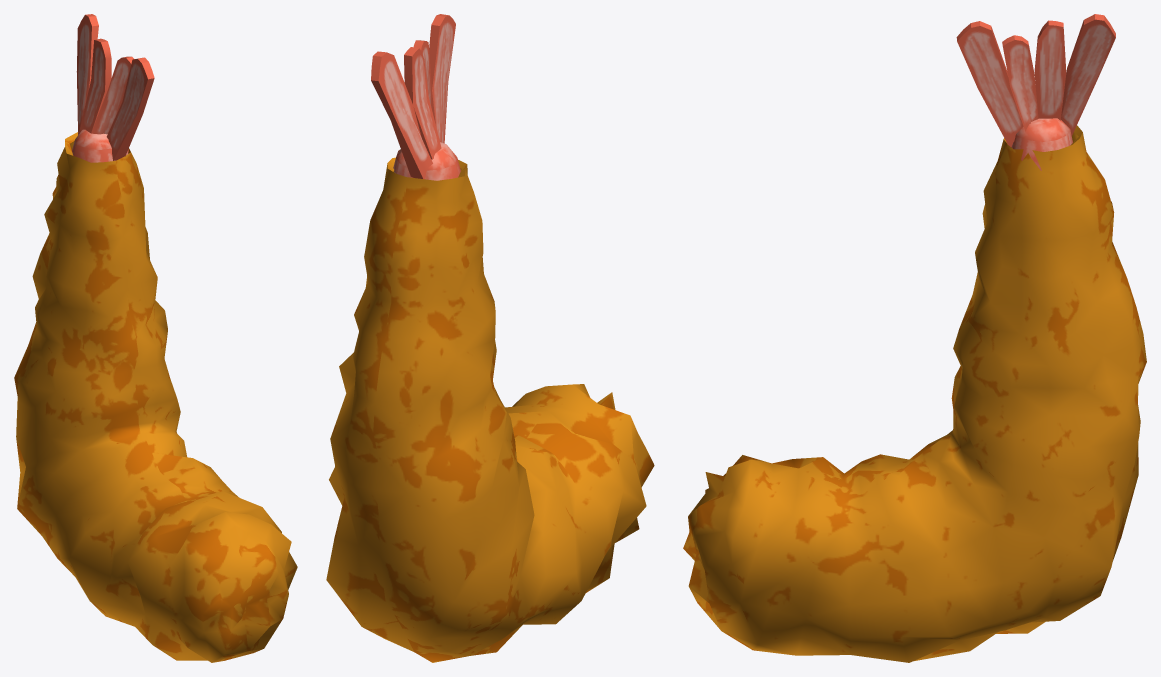
The model's file is Ebifly.fbx.
3 renders of one model, left to right at view 1: azimuth 30°, elevation 25°; view 2: azimuth 150°, elevation 25°; view 3: azimuth 270°, elevation 25°, orthographic. The views are drawn at different scales.
Visible parts, largest first — view 1: EbiFly; view 2: EbiFly; view 3: EbiFly.
Part boxes in pixels (bbox=[...]): EbiFly: bbox=[14, 14, 297, 662]; EbiFly: bbox=[326, 14, 654, 662]; EbiFly: bbox=[683, 14, 1146, 662].
Size of the model in its own units: 128 by 428 by 282.
Materials: 1 (1 with a texture image).
